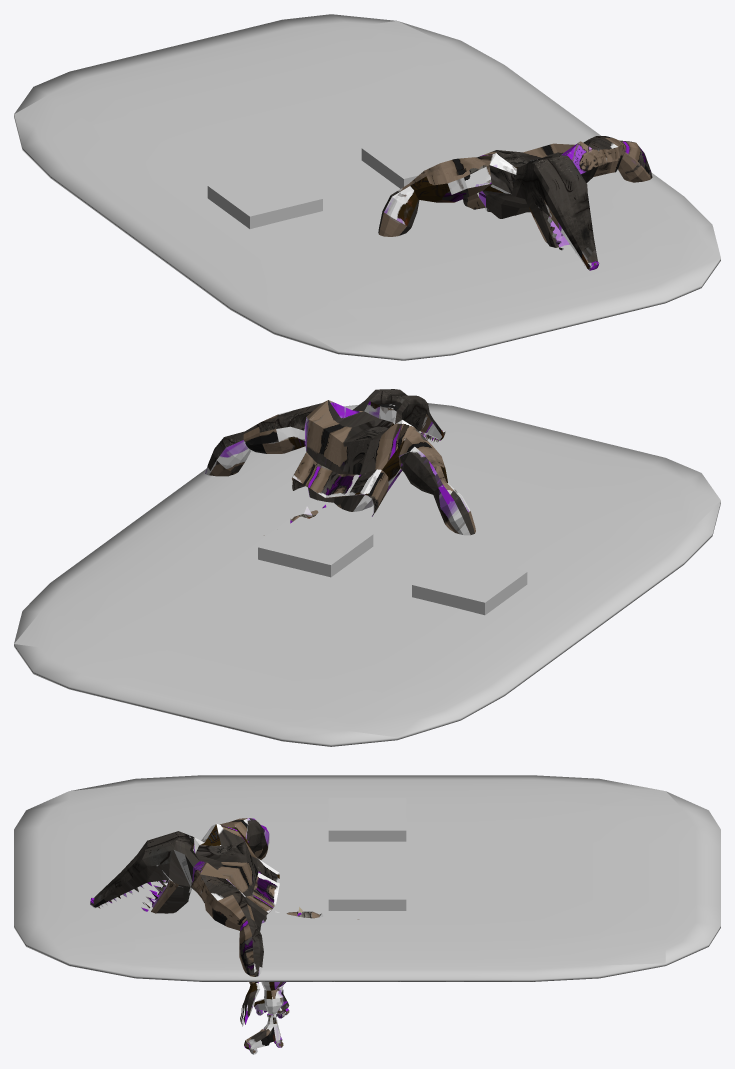
File: cocodrilaBonesSelect_000066.obj
The picture shows the model from 3 angles, top to bottom: view 1: azimuth 30°, elevation 25°; view 2: azimuth 150°, elevation 25°; view 3: azimuth 270°, elevation 25°; orthographic projection. The views are drawn at different scales.
Parts seen in each view (by area): view 1: Mball, Crocodile.002_Cylinder.002, Cube, Cube.001; view 2: Mball, Crocodile.002_Cylinder.002, Cube, Cube.001; view 3: Mball, Crocodile.002_Cylinder.002, Cube, Cube.001.
Part boxes in pixels (box(x1,y1,x2,y2)): Mball: box(14, 14, 720, 360); Crocodile.002_Cylinder.002: box(378, 136, 652, 270); Cube: box(207, 168, 322, 228); Cube.001: box(361, 130, 471, 188); Mball: box(14, 403, 720, 746); Crocodile.002_Cylinder.002: box(205, 389, 475, 535); Cube: box(412, 554, 527, 615); Cube.001: box(258, 516, 373, 577); Mball: box(14, 775, 720, 981); Crocodile.002_Cylinder.002: box(90, 818, 358, 1054); Cube: box(328, 797, 406, 841); Cube.001: box(328, 867, 406, 910).
Bounding box in the file's own units: 13.04 × 5.54 × 18.18.
